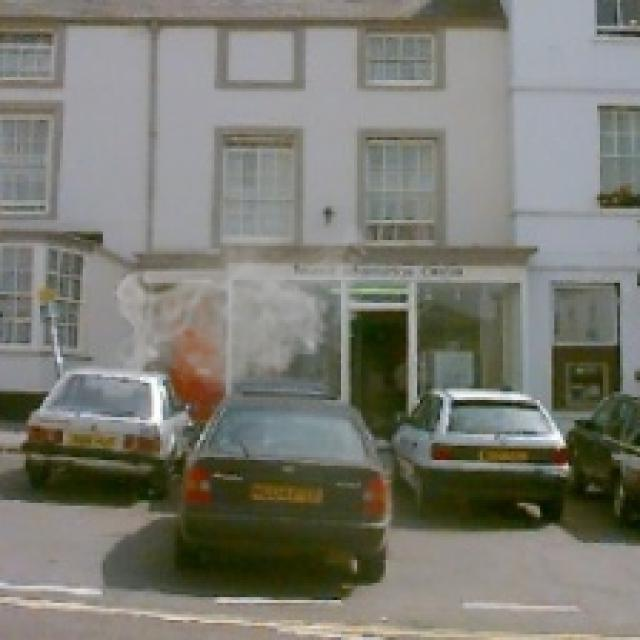smoke: (109, 200, 377, 400)
